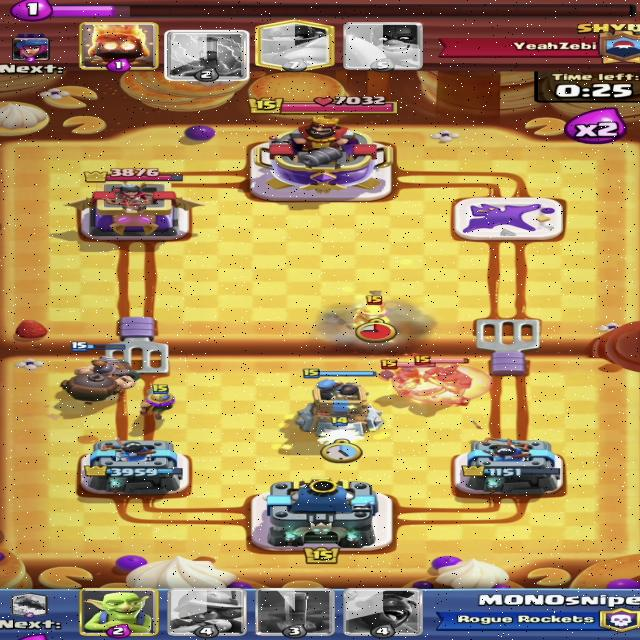Enemy-Hog: (408, 354, 481, 407)
Enemy-Musketeer: (348, 294, 397, 333)
Enemy-Valkyrie: (376, 360, 444, 393)
Player-BombTower: (296, 368, 386, 440)
Player-IceSpirit: (310, 416, 376, 450)
Player-MightyMiner: (54, 342, 145, 404)
Player-Musketeer: (136, 384, 176, 422)
